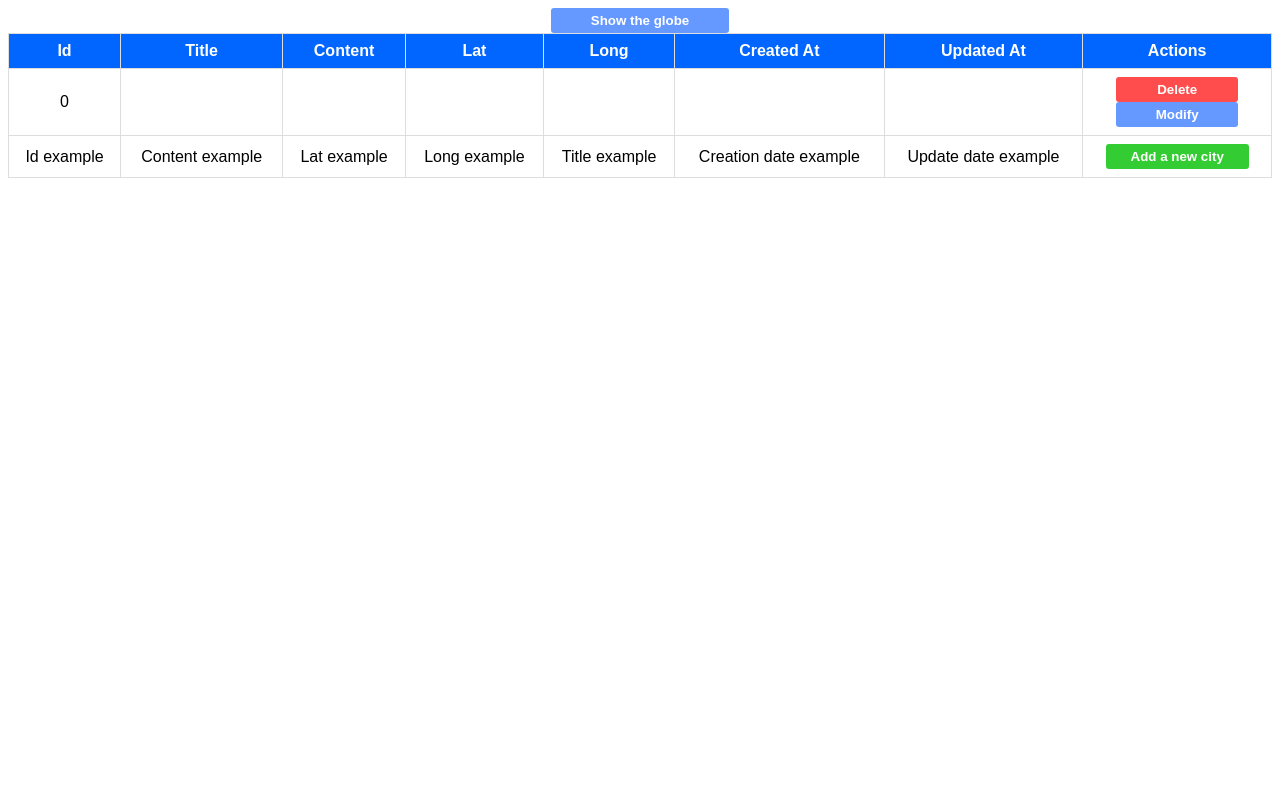
Scenario: Click button should open modal › If click button "Add a new city" opens the modal
This screenshot has width=1280, height=800.
Click the button with test id "button-add-city" at (1177, 156), box x1=1106 y1=144 x2=1249 y2=169
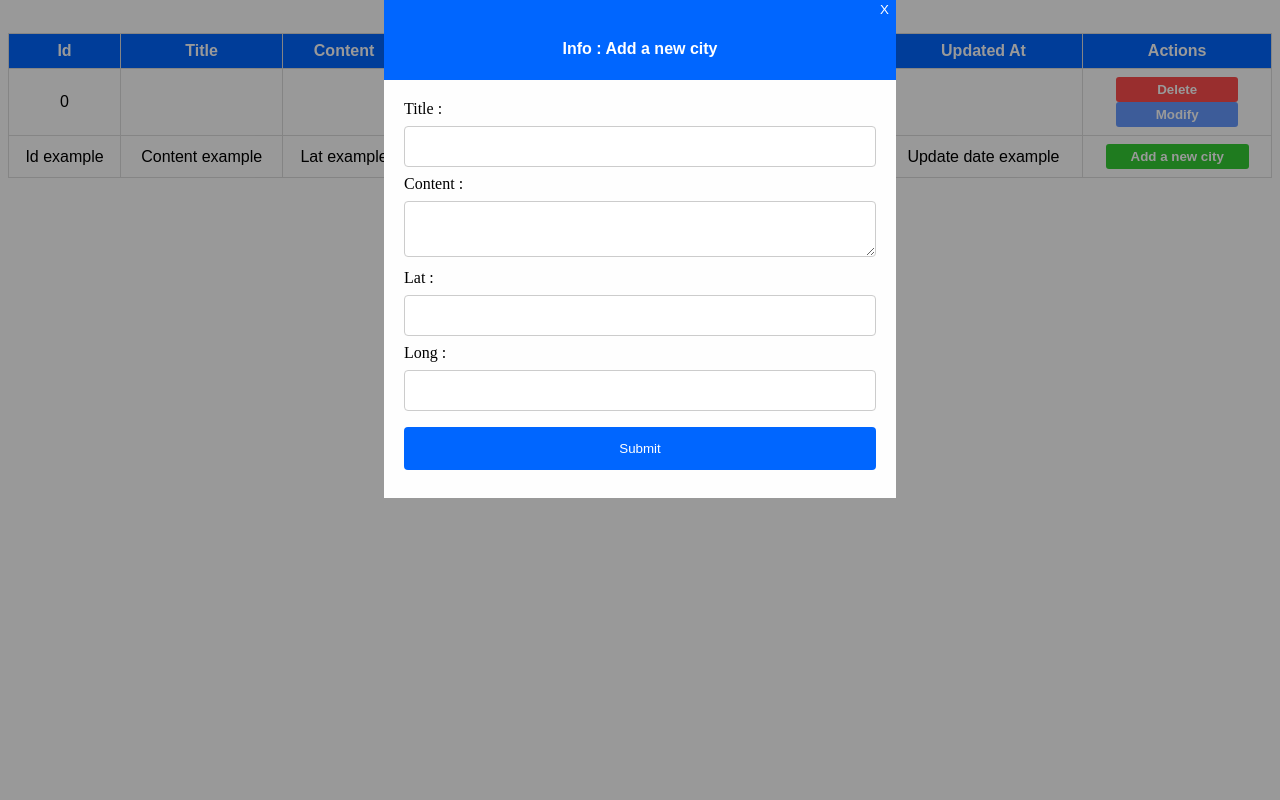
Expected: the heading "Info : Add a new city" is shown, x1=562 y1=40 x2=718 y2=58
